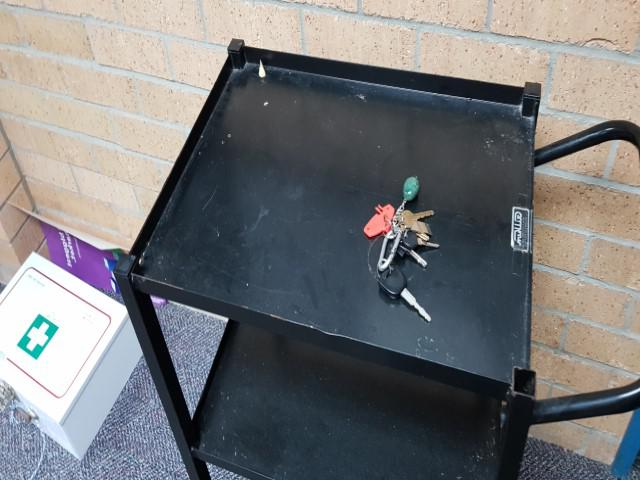key: (377, 265, 432, 321)
